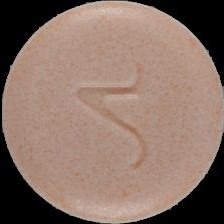43353-689: (0, 0, 224, 224)
